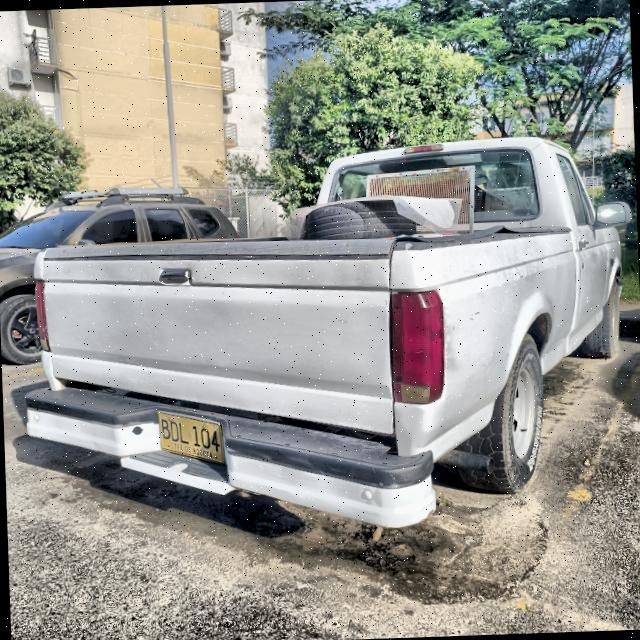plate: (158, 412, 222, 463)
